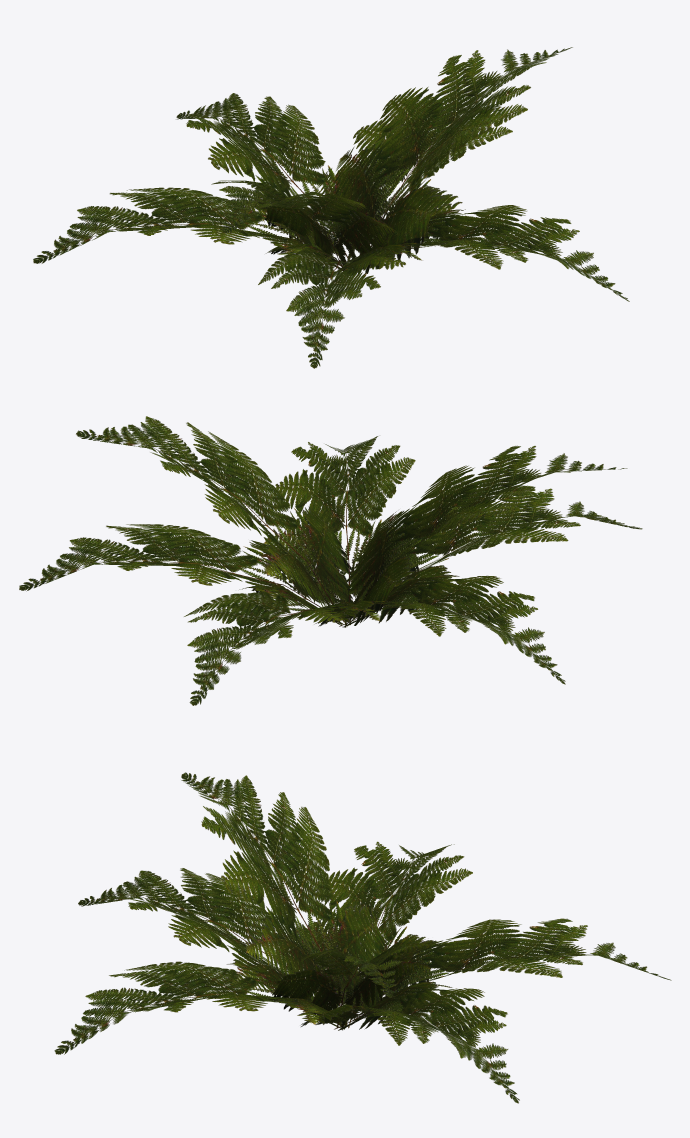
File: fern.glb
3 views of the same model, one above another, from view 1: azimuth 30°, elevation 25°; view 2: azimuth 150°, elevation 25°; view 3: azimuth 270°, elevation 25° (orthographic).
Parts seen in each view (by area): view 1: Plane_005_Plane_009, Plane_003_Plane_007, Plane_002_Plane_006, Plane_001, Plane_006_Plane_010, Plane_004_Plane_008, Plane_001_Plane_005; view 2: Plane_005_Plane_009, Plane_006_Plane_010, Plane_001, Plane_001_Plane_005, Plane_004_Plane_008, Plane_002_Plane_006, Plane_003_Plane_007; view 3: Plane_006_Plane_010, Plane_003_Plane_007, Plane_004_Plane_008, Plane_002_Plane_006, Plane_001, Plane_001_Plane_005, Plane_005_Plane_009.
Boxes of the visible parts, bbox=[...] form: Plane_005_Plane_009: bbox=[328, 47, 572, 273]; Plane_003_Plane_007: bbox=[176, 93, 388, 261]; Plane_002_Plane_006: bbox=[33, 187, 343, 269]; Plane_001: bbox=[336, 205, 629, 301]; Plane_006_Plane_010: bbox=[211, 180, 398, 267]; Plane_004_Plane_008: bbox=[258, 243, 422, 368]; Plane_001_Plane_005: bbox=[317, 96, 512, 275]; Plane_005_Plane_009: bbox=[76, 416, 353, 625]; Plane_006_Plane_010: bbox=[344, 445, 627, 627]; Plane_001: bbox=[264, 436, 419, 627]; Plane_001_Plane_005: bbox=[19, 524, 343, 624]; Plane_004_Plane_008: bbox=[346, 485, 642, 626]; Plane_002_Plane_006: bbox=[315, 574, 565, 684]; Plane_003_Plane_007: bbox=[184, 585, 380, 705]; Plane_006_Plane_010: bbox=[181, 772, 387, 1024]; Plane_003_Plane_007: bbox=[343, 918, 671, 1029]; Plane_004_Plane_008: bbox=[78, 868, 360, 1026]; Plane_002_Plane_006: bbox=[287, 841, 472, 1029]; Plane_001: bbox=[54, 961, 350, 1054]; Plane_001_Plane_005: bbox=[301, 984, 519, 1103]; Plane_005_Plane_009: bbox=[272, 941, 430, 1030].
Bounding box in the file's own units: 18.14 × 5.07 × 18.05.
1 material, 1 textured.
